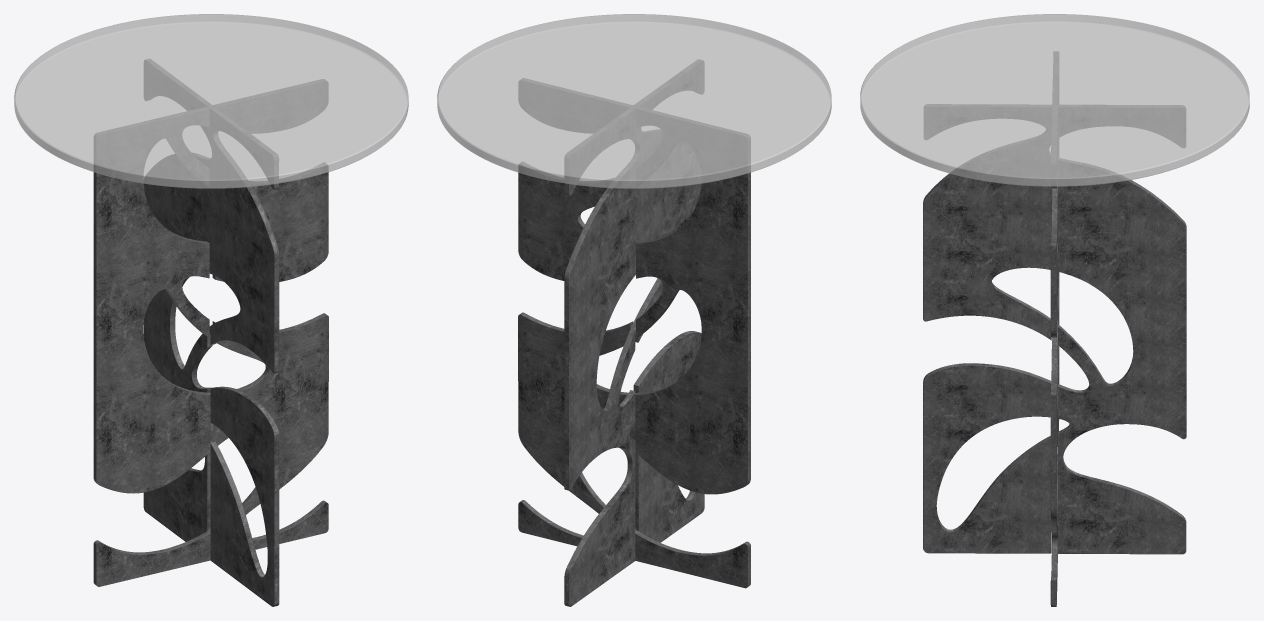
Rendered from coffee-tablev2.glb.
The picture shows the model from 3 angles, left to right: view 1: azimuth 30°, elevation 25°; view 2: azimuth 150°, elevation 25°; view 3: azimuth 270°, elevation 25°; orthographic projection.
Parts seen in each view (by area): view 1: Layer 05(27468BFF-8E92-48C9-9D01-0BBC3FC787DC), Layer 04(50D82AC4-D6EF-480A-8E87-6DD15CF5184C), Layer 04(C4C4F9FA-0207-4EB2-960E-A3C7822E9C8C), Layer 04(2596881B-EA84-4393-8ADE-7D7448E911F6), Layer 04(60845811-625F-4977-A81E-2097D75483C1), Layer 04(D959D456-9B13-498C-8445-06DF625F4DD5); view 2: Layer 05(27468BFF-8E92-48C9-9D01-0BBC3FC787DC), Layer 04(50D82AC4-D6EF-480A-8E87-6DD15CF5184C), Layer 04(C4C4F9FA-0207-4EB2-960E-A3C7822E9C8C), Layer 04(60845811-625F-4977-A81E-2097D75483C1), Layer 04(2596881B-EA84-4393-8ADE-7D7448E911F6), Layer 04(D959D456-9B13-498C-8445-06DF625F4DD5); view 3: Layer 04(C4C4F9FA-0207-4EB2-960E-A3C7822E9C8C), Layer 05(27468BFF-8E92-48C9-9D01-0BBC3FC787DC), Layer 04(2596881B-EA84-4393-8ADE-7D7448E911F6), Layer 04(50D82AC4-D6EF-480A-8E87-6DD15CF5184C), Layer 04(60845811-625F-4977-A81E-2097D75483C1), Layer 04(D959D456-9B13-498C-8445-06DF625F4DD5).
Part boxes in pixels (x1=…): Layer 05(27468BFF-8E92-48C9-9D01-0BBC3FC787DC): x1=14, y1=14, x2=408, y2=188; Layer 04(50D82AC4-D6EF-480A-8E87-6DD15CF5184C): x1=93, y1=107, x2=328, y2=586; Layer 04(C4C4F9FA-0207-4EB2-960E-A3C7822E9C8C): x1=143, y1=59, x2=279, y2=541; Layer 04(2596881B-EA84-4393-8ADE-7D7448E911F6): x1=210, y1=386, x2=279, y2=606; Layer 04(60845811-625F-4977-A81E-2097D75483C1): x1=212, y1=162, x2=328, y2=281; Layer 04(D959D456-9B13-498C-8445-06DF625F4DD5): x1=213, y1=79, x2=328, y2=133; Layer 05(27468BFF-8E92-48C9-9D01-0BBC3FC787DC): x1=437, y1=14, x2=831, y2=188; Layer 04(50D82AC4-D6EF-480A-8E87-6DD15CF5184C): x1=518, y1=107, x2=750, y2=588; Layer 04(C4C4F9FA-0207-4EB2-960E-A3C7822E9C8C): x1=564, y1=59, x2=704, y2=606; Layer 04(60845811-625F-4977-A81E-2097D75483C1): x1=518, y1=162, x2=614, y2=280; Layer 04(2596881B-EA84-4393-8ADE-7D7448E911F6): x1=633, y1=331, x2=704, y2=542; Layer 04(D959D456-9B13-498C-8445-06DF625F4DD5): x1=518, y1=78, x2=632, y2=133; Layer 04(C4C4F9FA-0207-4EB2-960E-A3C7822E9C8C): x1=923, y1=104, x2=1186, y2=554; Layer 05(27468BFF-8E92-48C9-9D01-0BBC3FC787DC): x1=860, y1=14, x2=1249, y2=186; Layer 04(2596881B-EA84-4393-8ADE-7D7448E911F6): x1=923, y1=363, x2=1051, y2=553; Layer 04(50D82AC4-D6EF-480A-8E87-6DD15CF5184C): x1=1050, y1=51, x2=1059, y2=606; Layer 04(60845811-625F-4977-A81E-2097D75483C1): x1=1050, y1=172, x2=1057, y2=337; Layer 04(D959D456-9B13-498C-8445-06DF625F4DD5): x1=1051, y1=107, x2=1057, y2=188.
Size of the model in its own units: 0.395 by 0.511 by 0.395.
Materials: 9 (8 with a texture image).
